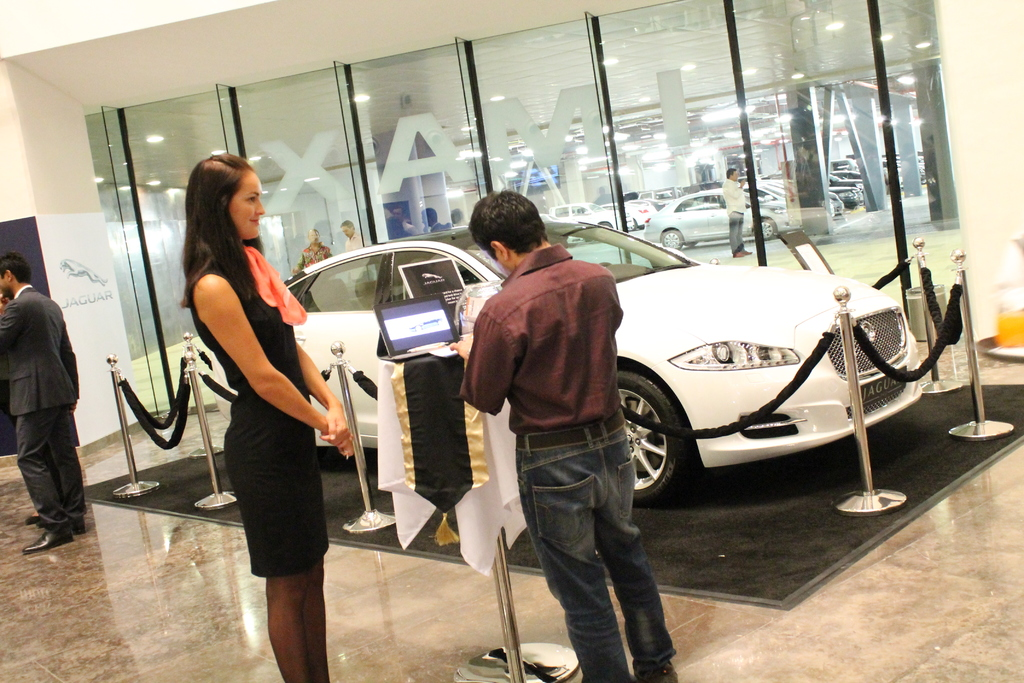Car: (215, 222, 923, 498)
